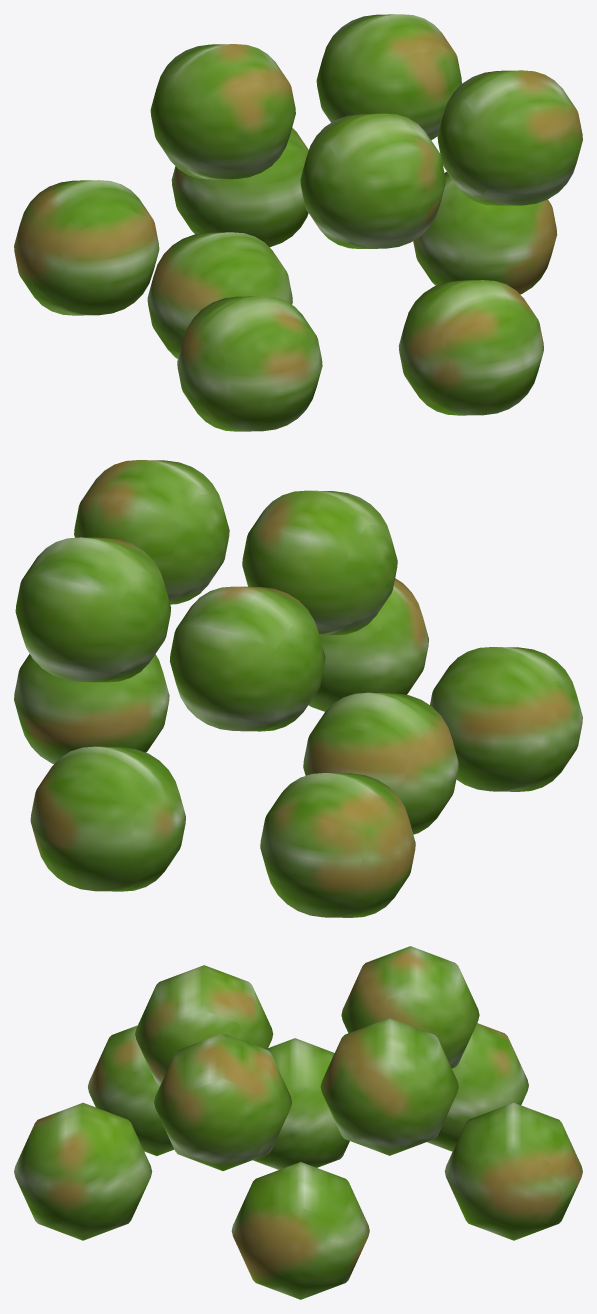
The model's file is SelSpongy.fbx.
3 views of the same model, one above another, from view 1: azimuth 30°, elevation 25°; view 2: azimuth 150°, elevation 25°; view 3: azimuth 270°, elevation 25° (orthographic). The views are drawn at different scales.
Parts seen in each view (by area): view 1: Sphere.002; view 2: Sphere.002; view 3: Sphere.002.
Boxes of the visible parts, box(x1,y1,x2,y2) form: Sphere.002: box(14, 14, 582, 431); Sphere.002: box(14, 460, 582, 917); Sphere.002: box(14, 946, 582, 1299).
Size of the model in its own units: 96.8 by 54.69 by 114.
Materials: 1 (1 with a texture image).
